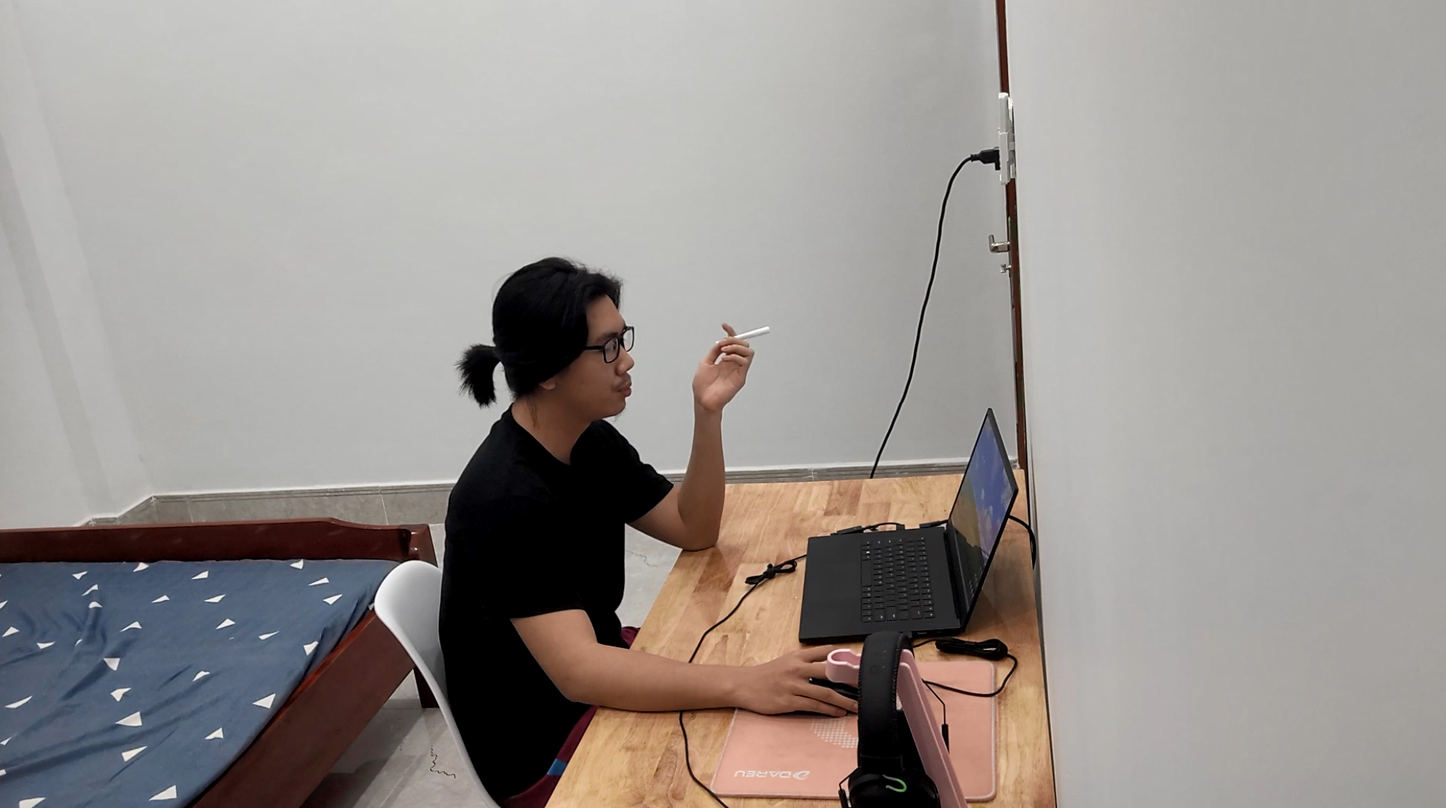cigarette: (717, 322, 781, 352)
person: (433, 242, 749, 786)
